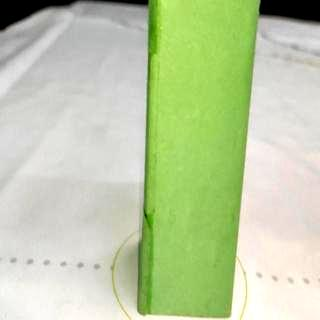greenbox: (136, 0, 261, 319)
